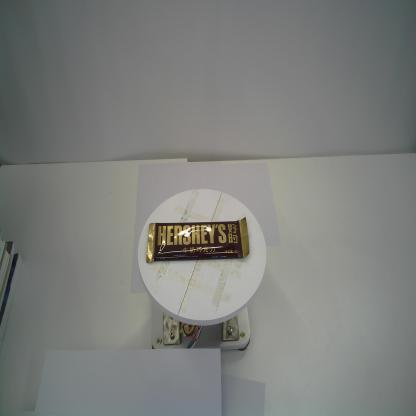Chocolate: (144, 215, 250, 265)
